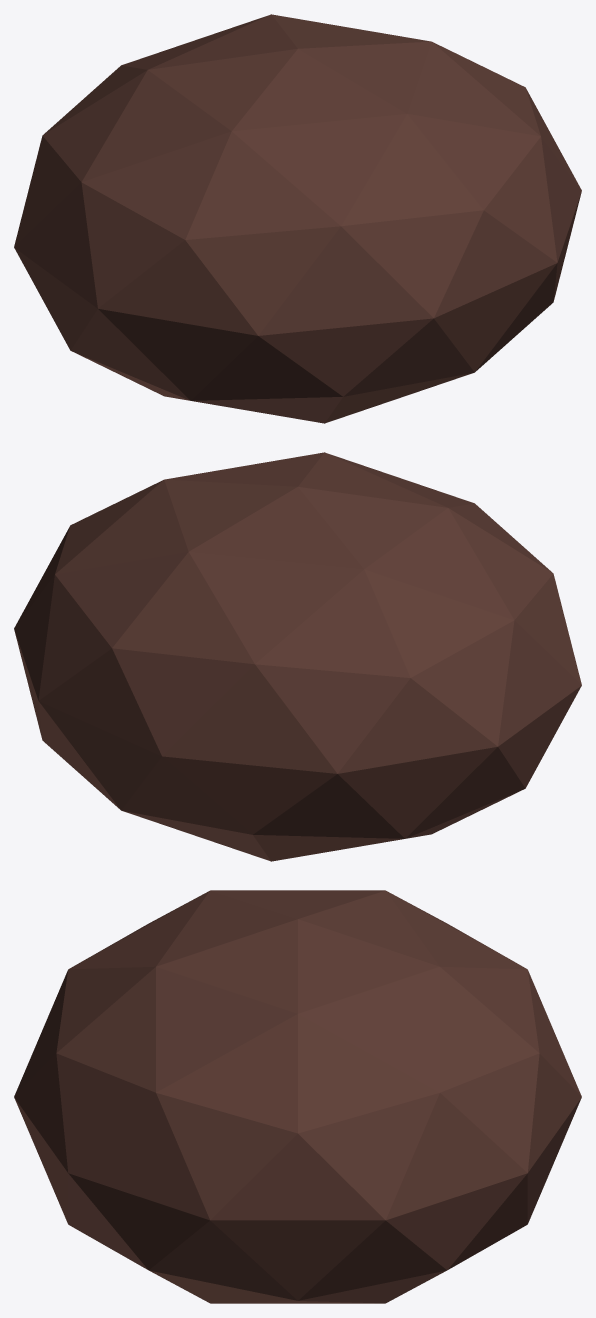
File: Modular_Hair_Short.fbx
3 renders of one model, top to bottom at view 1: azimuth 30°, elevation 25°; view 2: azimuth 150°, elevation 25°; view 3: azimuth 270°, elevation 25°, orthographic. The views are drawn at different scales.
Parts seen in each view (by area): view 1: HairCap.013; view 2: HairCap.013; view 3: HairCap.013.
Boxes of the visible parts, x1=… form: HairCap.013: x1=14, y1=14, x2=581, y2=423; HairCap.013: x1=14, y1=452, x2=581, y2=861; HairCap.013: x1=14, y1=890, x2=581, y2=1303.
Bounding box in the file's own units: 0.253 × 0.17 × 0.246.
